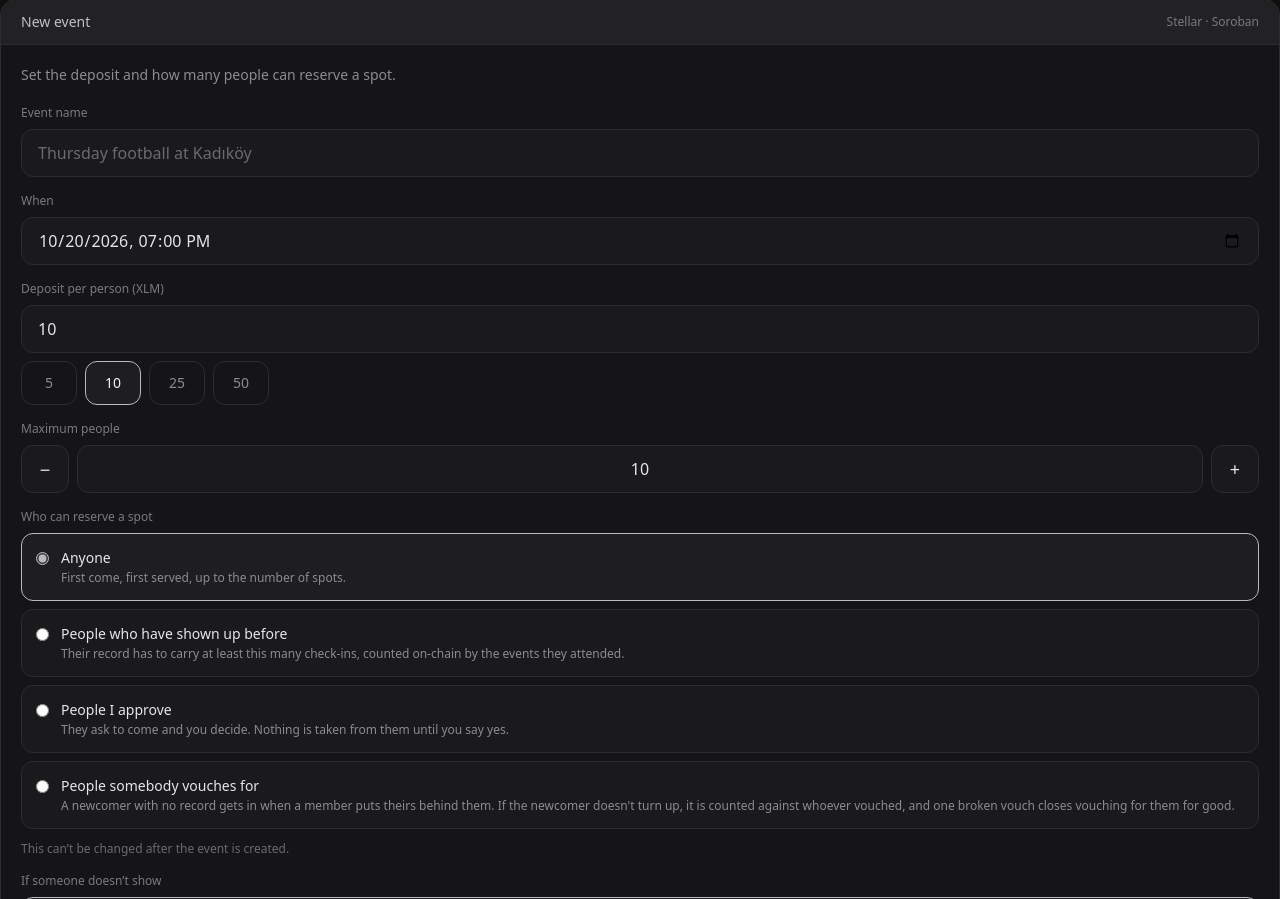
it: CreateEvent — the wait › sends the title trimmed and the start time as a number of seconds
The image size is (1280, 899).
Type "  Perşembe halı saha  " into the field labelled "Event name".
click(640, 153); type("  Perşembe halı saha  ")  # box top-left (21, 129), bottom-right (1259, 177)
(page scrolled)
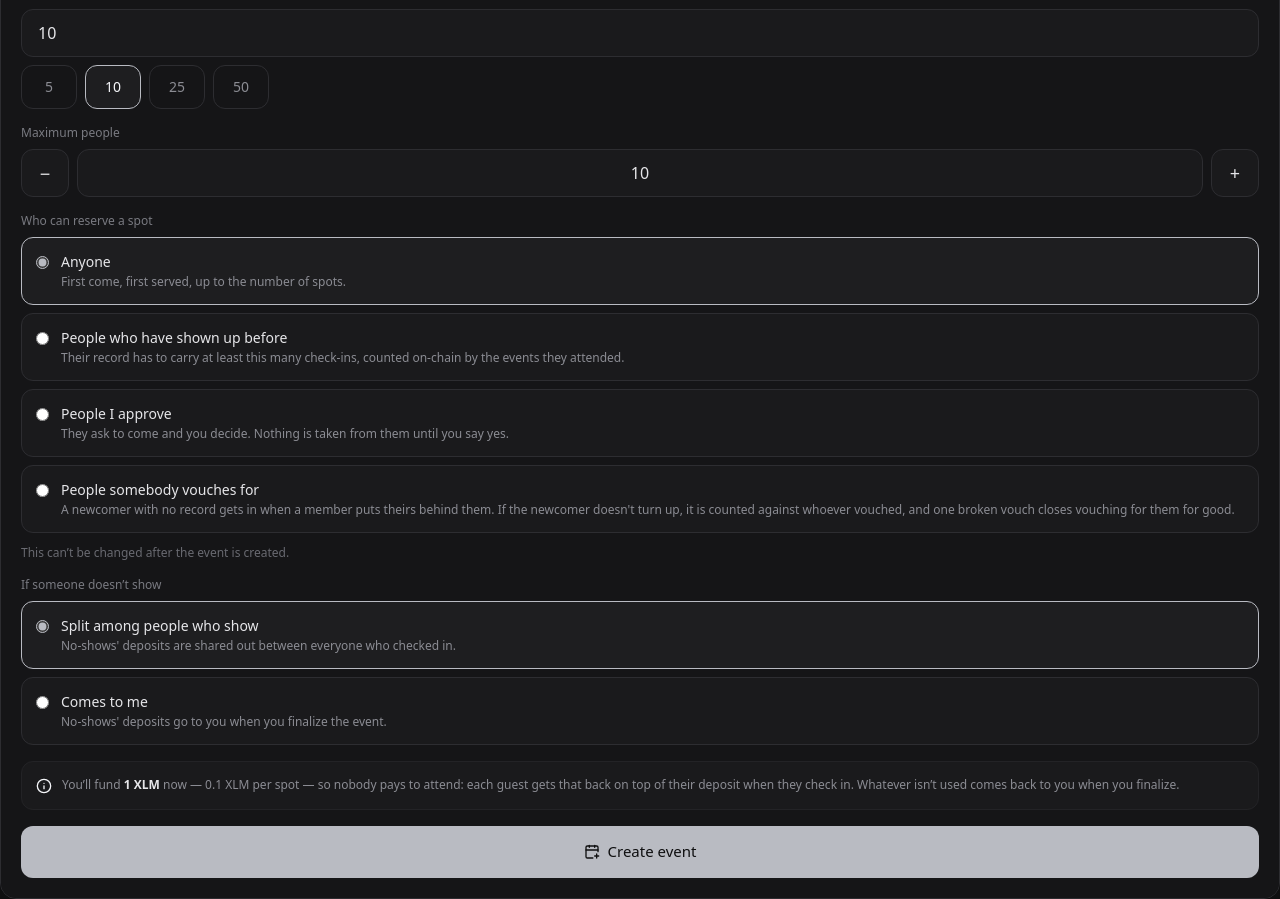
Click the button "Create event".
click(640, 852)  # box top-left (21, 826), bottom-right (1259, 878)
(page scrolled)
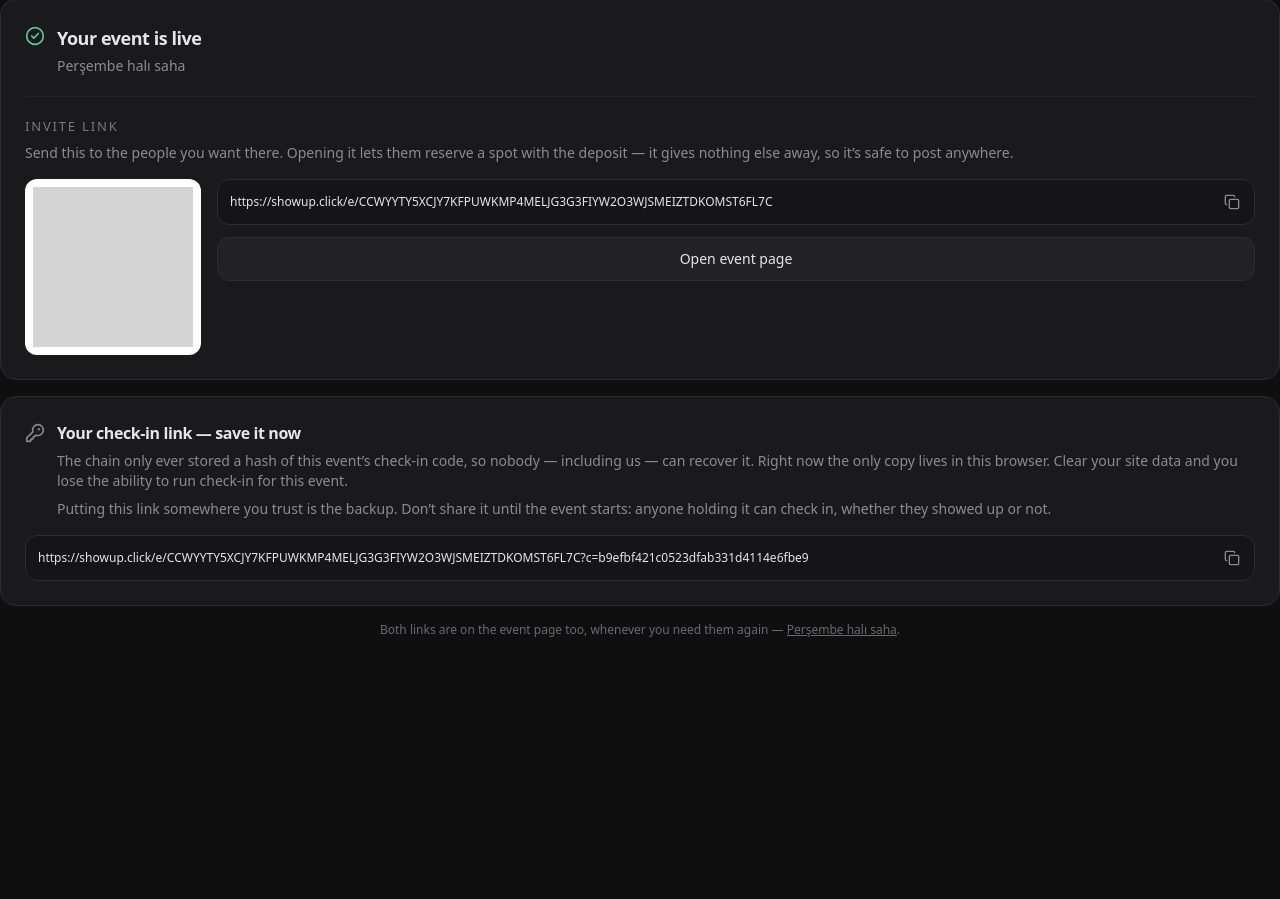
Expected: the heading "Your event is live" is shown, top-left (57, 24), bottom-right (202, 52)
Expected: the text "Perşembe halı saha" is shown, top-left (57, 56), bottom-right (202, 76)
